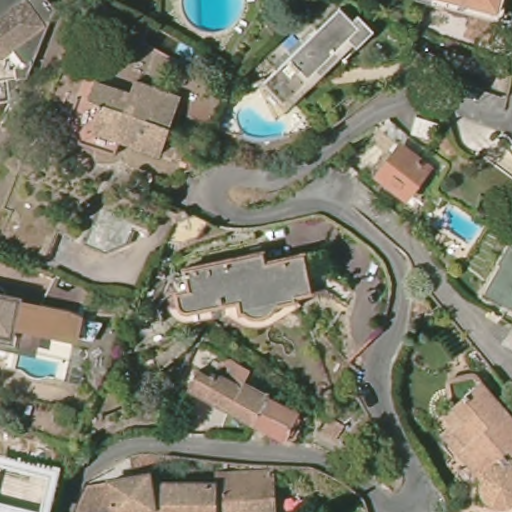pool: (174, 1, 248, 32), (234, 100, 291, 138), (442, 202, 488, 246), (11, 352, 61, 381)
